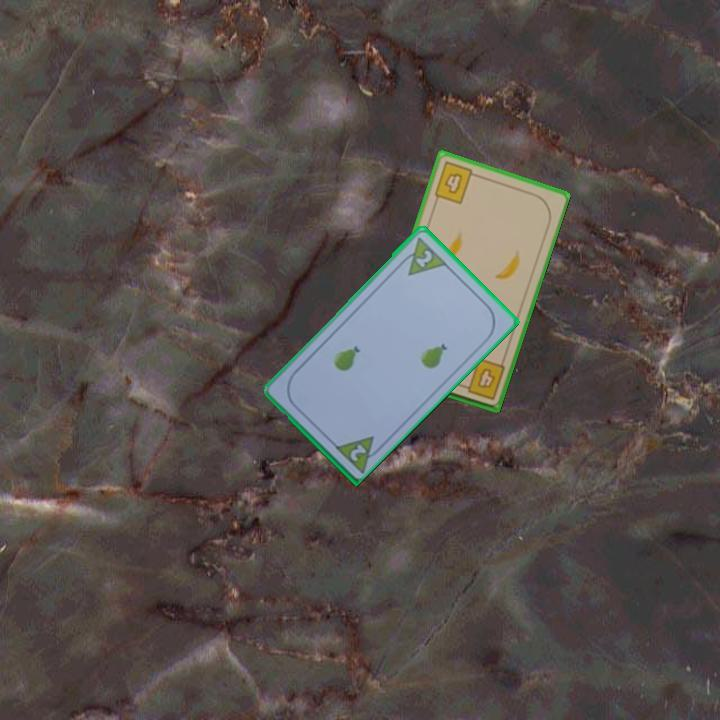2p: (411, 246, 435, 270), (346, 440, 370, 464)
4b: (430, 158, 481, 207), (456, 355, 508, 403)
